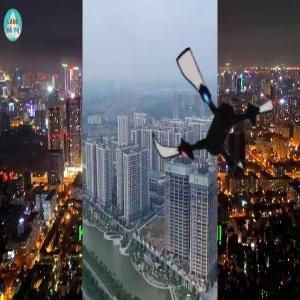drone: (142, 45, 281, 184)
